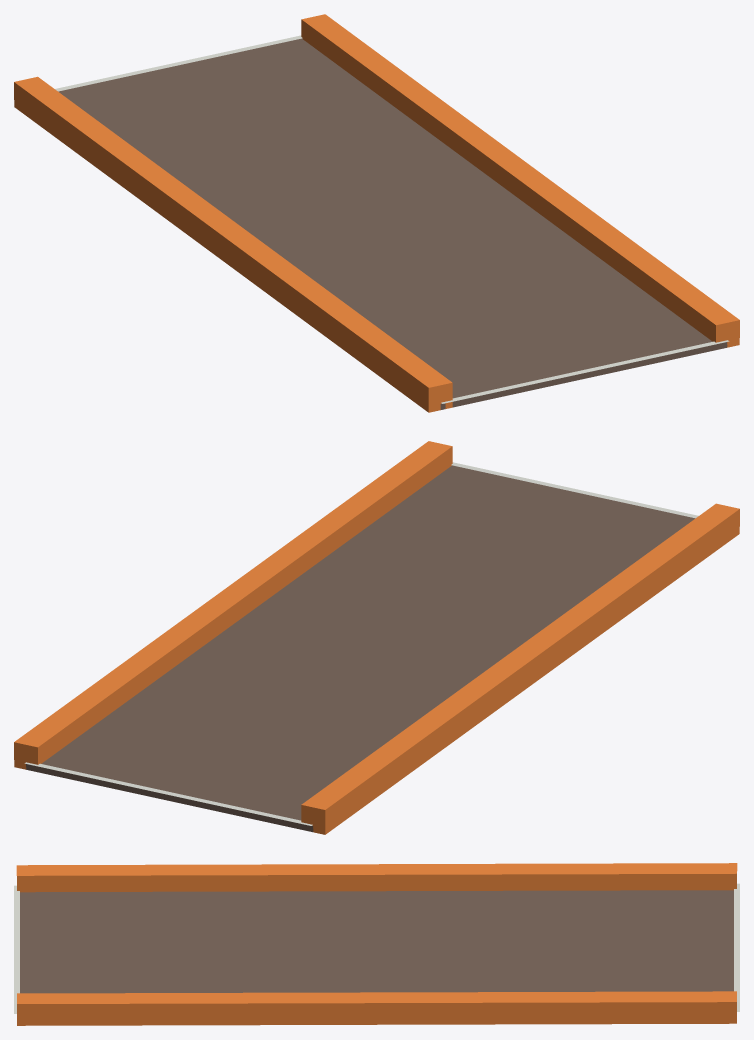
File: SM_MP_Film_B_2_2.fbx
3 renders of one model, top to bottom at view 1: azimuth 30°, elevation 25°; view 2: azimuth 150°, elevation 25°; view 3: azimuth 270°, elevation 25°, orthographic. The views are drawn at different scales.
Parts seen in each view (by area): view 1: SM_MP_Film_B_2_2; view 2: SM_MP_Film_B_2_2; view 3: SM_MP_Film_B_2_2.
Part boxes in pixels (x1=…): SM_MP_Film_B_2_2: x1=14, y1=14, x2=739, y2=412; SM_MP_Film_B_2_2: x1=14, y1=441, x2=739, y2=834; SM_MP_Film_B_2_2: x1=14, y1=863, x2=739, y2=1025.
Size of what is drawn, in the model's own units: 260 by 605 by 28.38.
